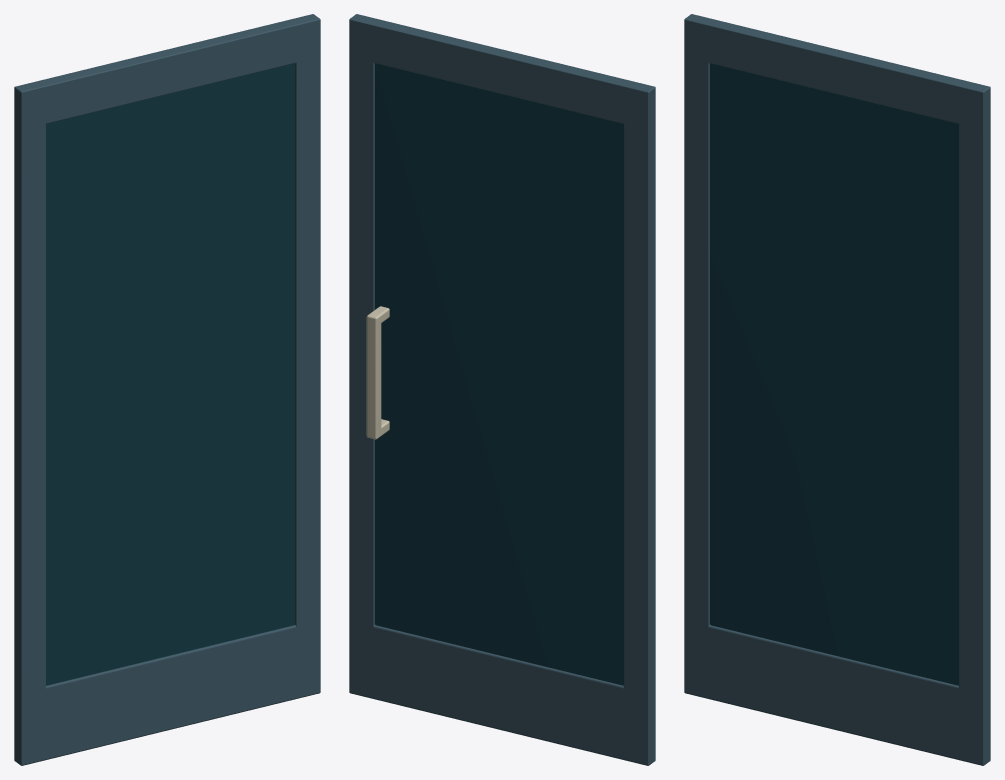
File: city_shop_fittings_06_single.glb
3 views of the same model, side by side, from view 1: azimuth 30°, elevation 25°; view 2: azimuth 150°, elevation 25°; view 3: azimuth 330°, elevation 25° (orthographic).
Parts seen in each view (by area): view 1: single_leaf_1_glazing, single_leaf_1_stiles_rails; view 2: single_leaf_1_glazing, single_leaf_1_stiles_rails, single_leaf_1_static_pull; view 3: single_leaf_1_glazing, single_leaf_1_stiles_rails.
Part boxes in pixels (x1,y1,x2,y2): single_leaf_1_glazing: [46, 63, 294, 685]; single_leaf_1_stiles_rails: [14, 14, 320, 765]; single_leaf_1_glazing: [375, 63, 623, 685]; single_leaf_1_stiles_rails: [349, 14, 655, 765]; single_leaf_1_static_pull: [366, 306, 389, 439]; single_leaf_1_glazing: [710, 63, 958, 685]; single_leaf_1_stiles_rails: [684, 14, 990, 765].
Bounding box in the file's own units: 1.02 × 2.2 × 0.123.
